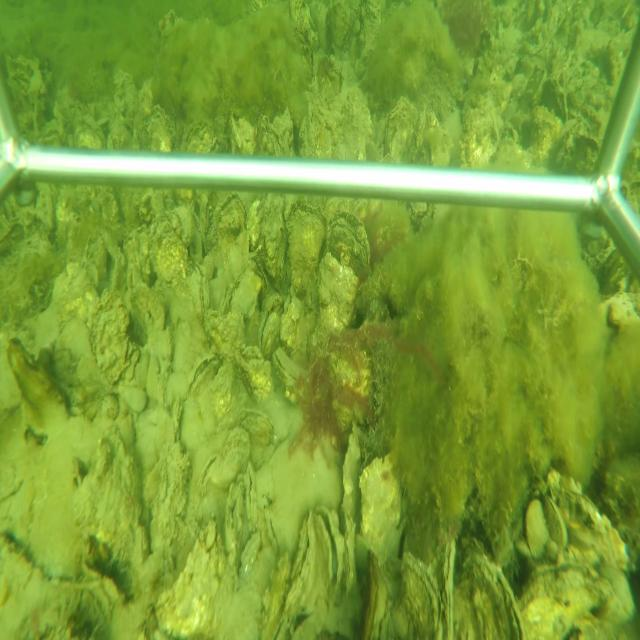Oyster-Closed: (180, 355, 242, 450), (465, 541, 522, 636), (563, 482, 626, 566), (282, 511, 322, 625), (400, 553, 441, 634), (330, 209, 371, 272), (362, 551, 388, 636), (206, 194, 246, 242), (441, 538, 458, 638), (224, 482, 244, 554), (259, 297, 281, 359), (545, 493, 568, 547), (273, 346, 300, 384), (245, 465, 258, 523)
Oyster-Indeterminate: (148, 516, 229, 636), (518, 564, 626, 637), (308, 249, 362, 362), (358, 455, 403, 568), (90, 292, 135, 384), (286, 201, 326, 287), (340, 425, 361, 516), (524, 496, 549, 560)
Oyster-Open: (316, 505, 340, 587)
